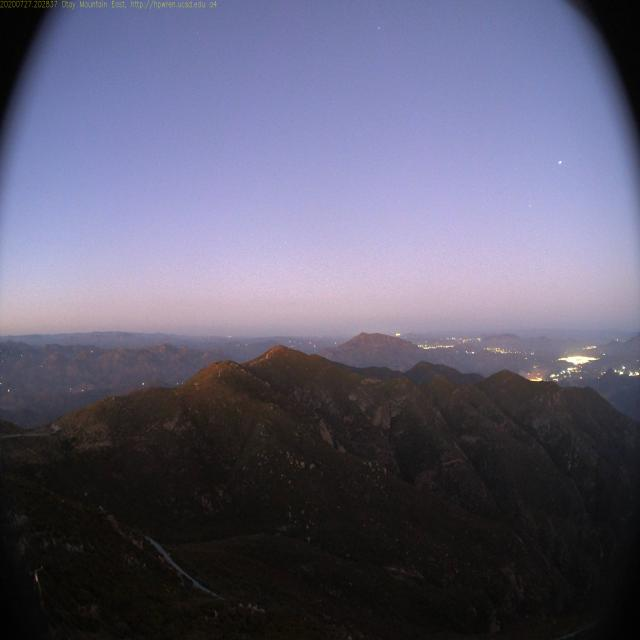smoke: (517, 364, 550, 385)
